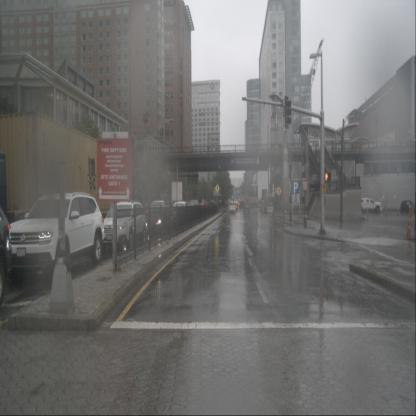movable_object-trafficcone: (406, 209, 414, 240), (384, 204, 388, 216), (411, 204, 415, 215), (366, 206, 369, 216), (397, 206, 400, 216)
vehicle-car: (5, 191, 105, 285), (100, 200, 148, 249), (144, 200, 170, 235), (170, 200, 189, 228), (400, 200, 416, 214), (189, 199, 199, 216), (243, 202, 251, 214), (229, 202, 236, 213), (239, 200, 245, 210), (232, 203, 238, 212)
vehicle-truck: (358, 198, 382, 214)
